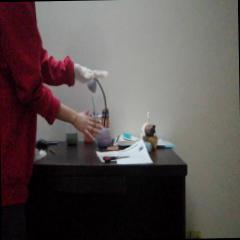gloved: (74, 63, 108, 82)
not-gloved: (74, 110, 104, 142)
